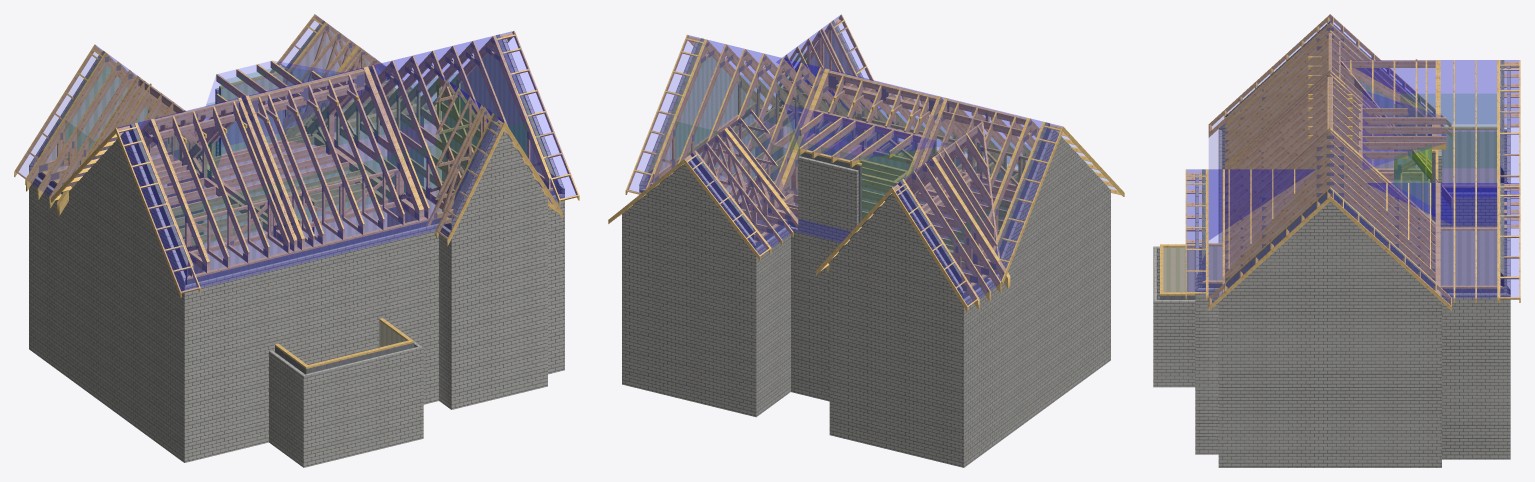
3 renders of one model, left to right at view 1: azimuth 30°, elevation 25°; view 2: azimuth 150°, elevation 25°; view 3: azimuth 270°, elevation 25°, orthographic. The views are drawn at different scales.
Visible parts, largest first — view 1: skfb_offset; view 2: skfb_offset; view 3: skfb_offset.
Boxes of the visible parts, <box> form: skfb_offset: <box>14,14,579,467</box>; skfb_offset: <box>608,14,1124,467</box>; skfb_offset: <box>1153,14,1520,467</box>.
Bounding box in the file's own units: 11877 × 8357 × 10092.
11 materials, 9 textured.
